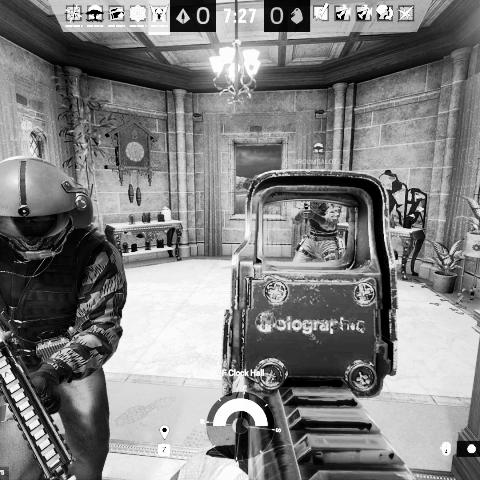Character: (0, 151, 132, 480), (291, 200, 345, 264)
Friend_label: (292, 140, 338, 165), (8, 118, 46, 143)
Head: (0, 153, 98, 246)
